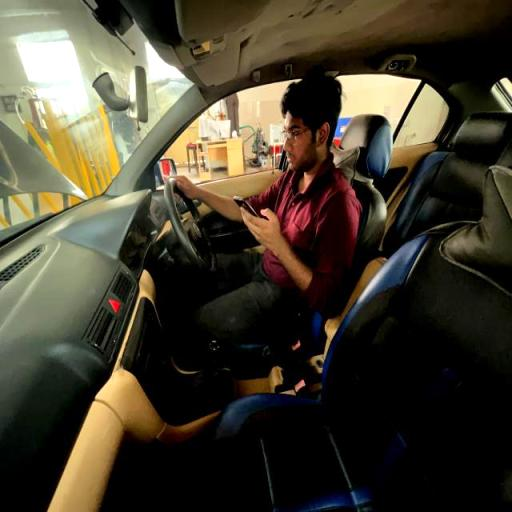Texting_on_phone: (171, 72, 358, 325)
